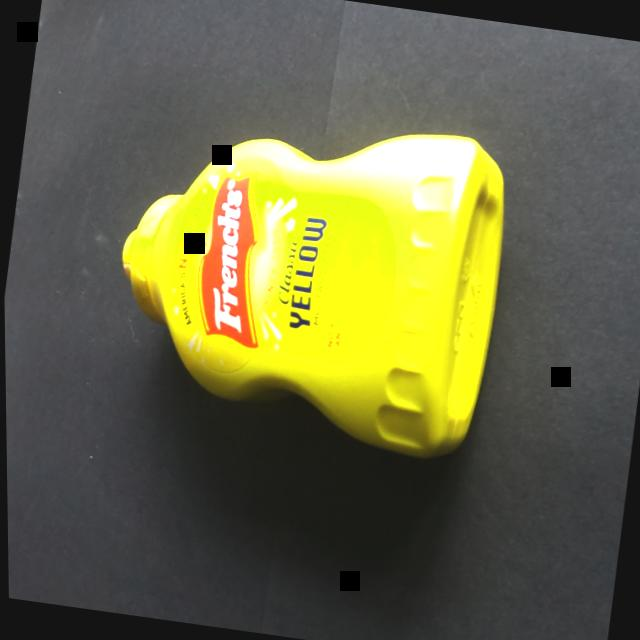Mustard: (79, 73, 545, 489)
